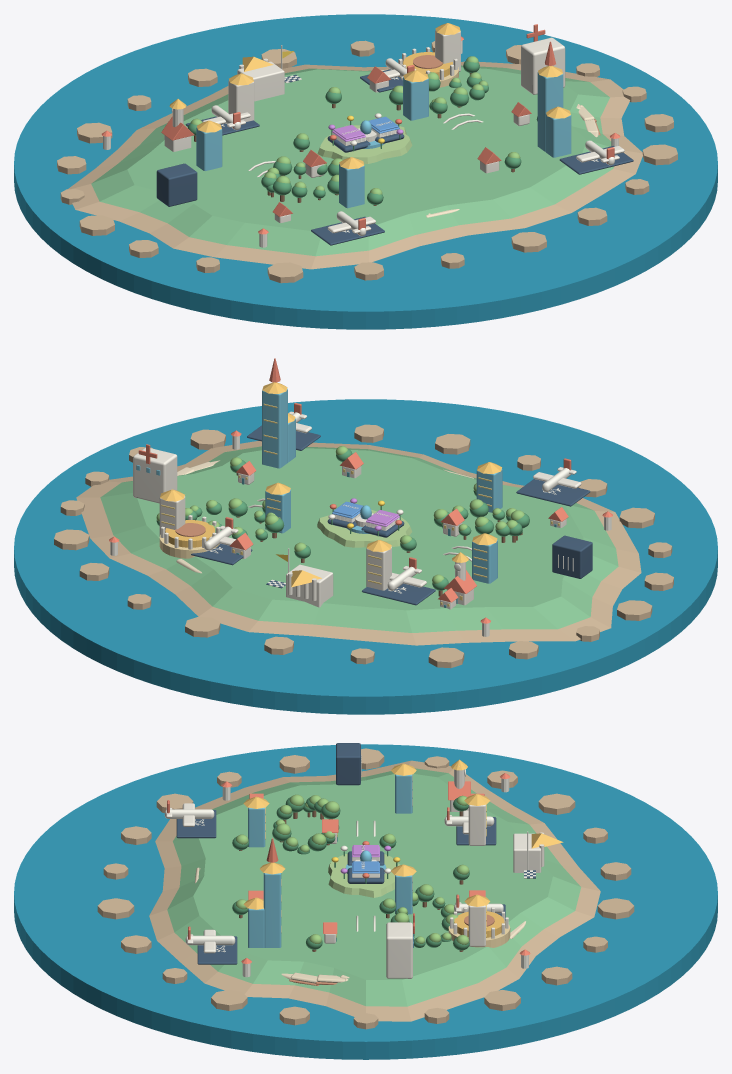
The model's file is archipelago_map.glb.
3 renders of one model, top to bottom at view 1: azimuth 30°, elevation 25°; view 2: azimuth 150°, elevation 25°; view 3: azimuth 270°, elevation 25°, orthographic.
Parts seen in each view (by area): view 1: Ocean plinth.005, IslandTerrain_03.005, Prison keep.005, Hospital main block.005, IslandTerrain_41.005, Skyline tower.041, Court marble hall.005, Skyline tower.040, Skyline tower.037, Skyline tower.039, Skyline tower.038, Skyline tower.035 (+8 smaller); view 2: Ocean plinth.005, IslandTerrain_03.005, Hospital main block.005, Skyline tower.041, Prison keep.005, IslandTerrain_41.005, Court marble hall.005, Airfield apron.016, Skyline tower.037, Skyline tower.035, Skyline tower.039, Airfield apron.017 (+11 smaller); view 3: Ocean plinth.005, IslandTerrain_03.005, Hospital main block.005, IslandTerrain_41.005, Skyline tower.041, Prison keep.005, Court marble hall.005, Airfield apron.016, Airfield apron.015, Skyline tower.035, Skyline tower.036, Skyline tower.039 (+9 smaller).
Boxes of the visible parts, <box> form: Ocean plinth.005: <box>14,14,717,329</box>; IslandTerrain_03.005: <box>68,61,642,269</box>; Prison keep.005: <box>156,163,197,206</box>; Hospital main block.005: <box>521,37,565,94</box>; IslandTerrain_41.005: <box>317,125,412,163</box>; Skyline tower.041: <box>537,72,563,151</box>; Court marble hall.005: <box>237,61,284,101</box>; Skyline tower.040: <box>545,113,571,157</box>; Skyline tower.037: <box>196,127,222,170</box>; Skyline tower.039: <box>339,164,364,208</box>; Skyline tower.038: <box>403,77,428,120</box>; Skyline tower.035: <box>228,80,254,121</box>; Ocean plinth.005: <box>14,399,717,714</box>; IslandTerrain_03.005: <box>76,441,641,645</box>; Hospital main block.005: <box>133,447,177,503</box>; Skyline tower.041: <box>262,388,287,468</box>; Prison keep.005: <box>552,535,592,578</box>; IslandTerrain_41.005: <box>317,509,412,547</box>; Court marble hall.005: <box>286,564,333,607</box>; Airfield apron.016: <box>516,479,590,506</box>; Skyline tower.037: <box>472,540,497,583</box>; Skyline tower.035: <box>366,546,391,590</box>; Skyline tower.039: <box>476,469,502,512</box>; Airfield apron.017: <box>362,583,435,605</box>; Ocean plinth.005: <box>14,744,717,1059</box>; IslandTerrain_03.005: <box>149,760,600,1021</box>; Hospital main block.005: <box>386,922,412,978</box>; IslandTerrain_41.005: <box>328,854,400,897</box>; Skyline tower.041: <box>263,873,281,947</box>; Prison keep.005: <box>336,743,360,785</box>; Court marble hall.005: <box>513,833,541,872</box>; Airfield apron.016: <box>176,810,216,838</box>; Airfield apron.015: <box>197,936,237,964</box>; Skyline tower.035: <box>468,804,485,845</box>; Skyline tower.036: <box>468,905,485,946</box>; Skyline tower.039: <box>248,807,265,847</box>.
Bounding box in the file's own units: 35.4 × 7.75 × 35.4.
